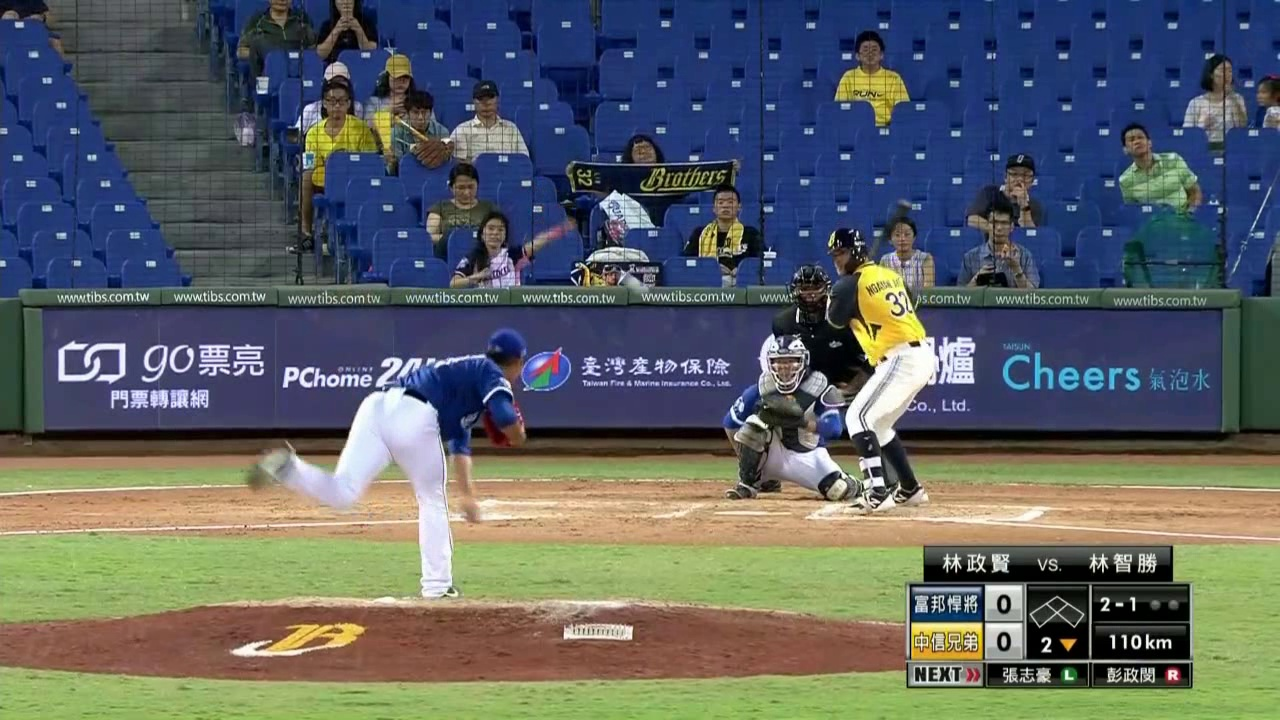ball: (623, 272, 644, 293)
base: (1028, 593, 1089, 628)
bat: (861, 195, 917, 274)
out: (1145, 591, 1186, 618)
score1: (987, 588, 1022, 618)
score2: (986, 627, 1019, 656)
session: (1027, 629, 1088, 658)
speed: (1097, 630, 1184, 655)
strikeball: (1094, 593, 1141, 617)
